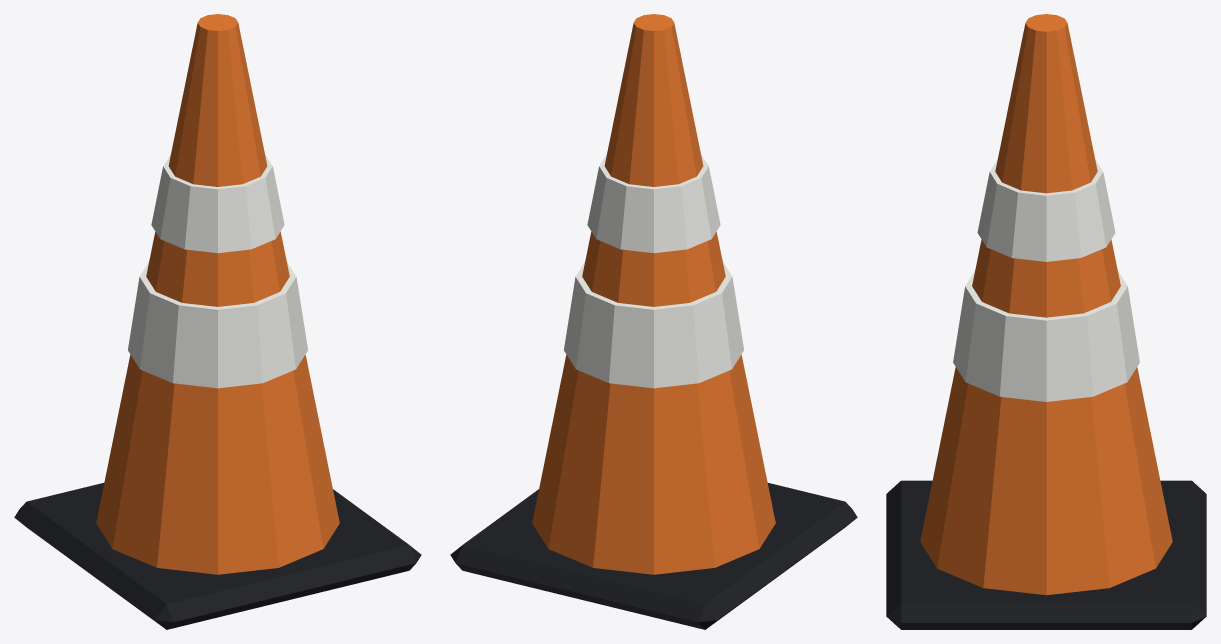
The model's file is PD_TrafficCone.fbx.
The picture shows the model from 3 angles, left to right: view 1: azimuth 30°, elevation 25°; view 2: azimuth 150°, elevation 25°; view 3: azimuth 270°, elevation 25°; orthographic projection. The views are drawn at different scales.
Parts seen in each view (by area): view 1: PD_TrafficCone_Mesh; view 2: PD_TrafficCone_Mesh; view 3: PD_TrafficCone_Mesh.
Part boxes in pixels (x1,y1,x2,y2): PD_TrafficCone_Mesh: [14, 14, 421, 629]; PD_TrafficCone_Mesh: [450, 14, 857, 629]; PD_TrafficCone_Mesh: [886, 14, 1206, 629].
Bounding box in the file's own units: 0.38 × 0.715 × 0.38.
